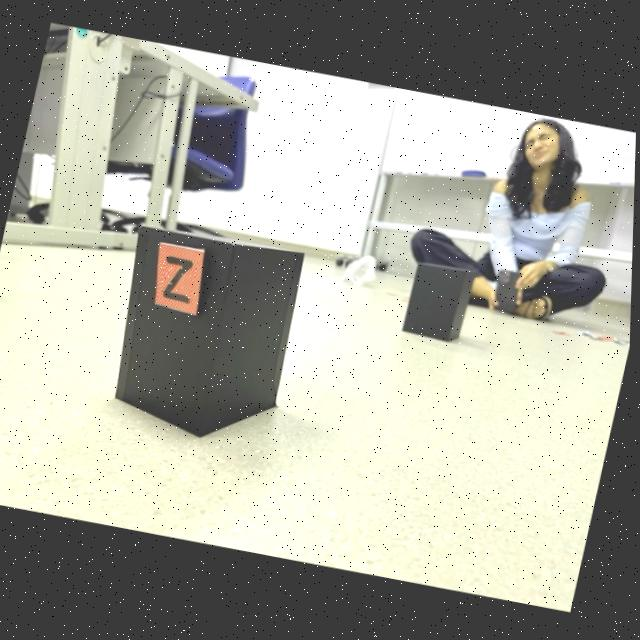Z: (166, 257, 195, 303)
